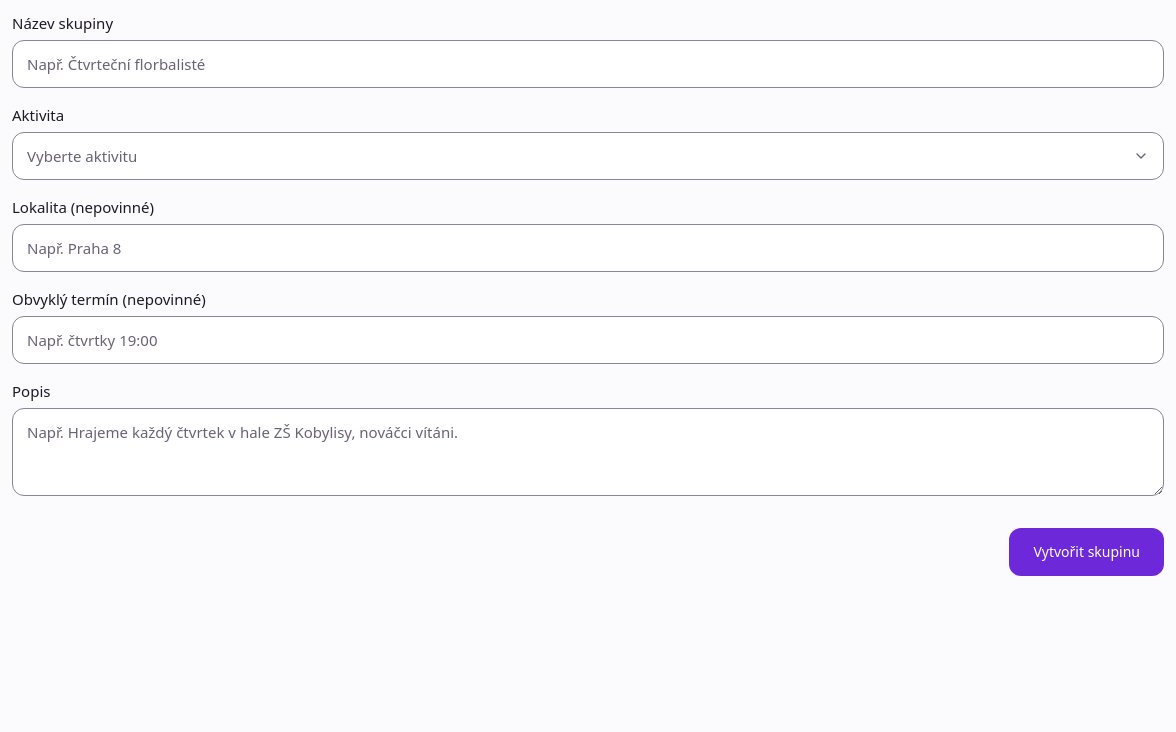
Test: GroupForm › rejects a name shorter than three characters
Type "  ab  " into the field labelled "Název skupiny". click: coordinates (588, 64)
box: [12,40,1164,88]
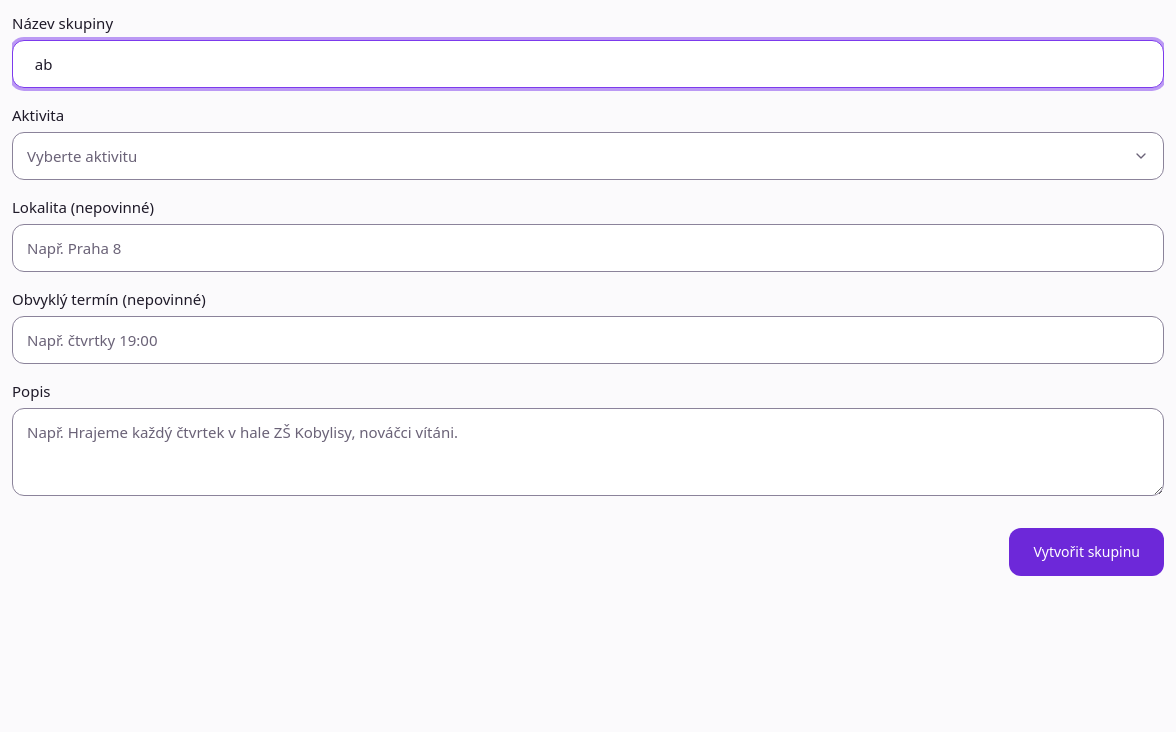
Click the button "Vytvořit skupinu". click: coordinates (1087, 552)
box: [1009,528,1164,576]
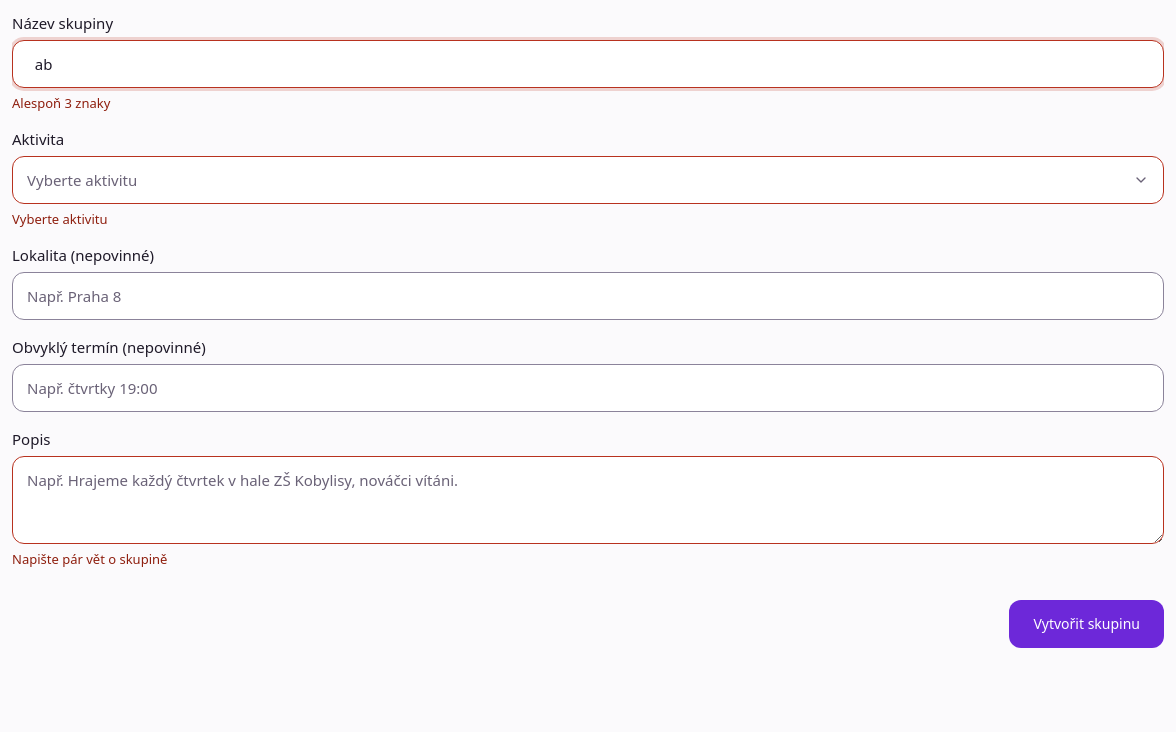
expect the text "Alespoň 3 znaky" is shown: met, box [12,94,110,112]
